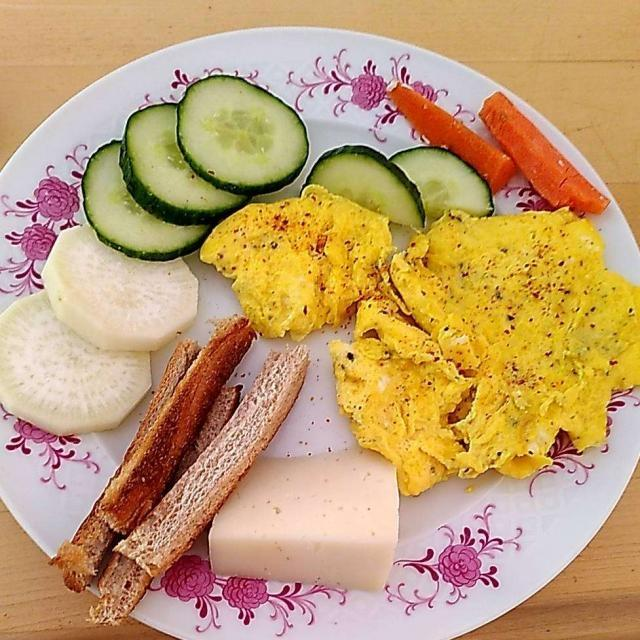bread: (52, 323, 314, 617)
carrot: (388, 80, 614, 219)
cheese: (206, 459, 402, 590)
cucumber: (73, 76, 506, 264)
omelette: (186, 201, 628, 496)
radish: (2, 220, 199, 441)
